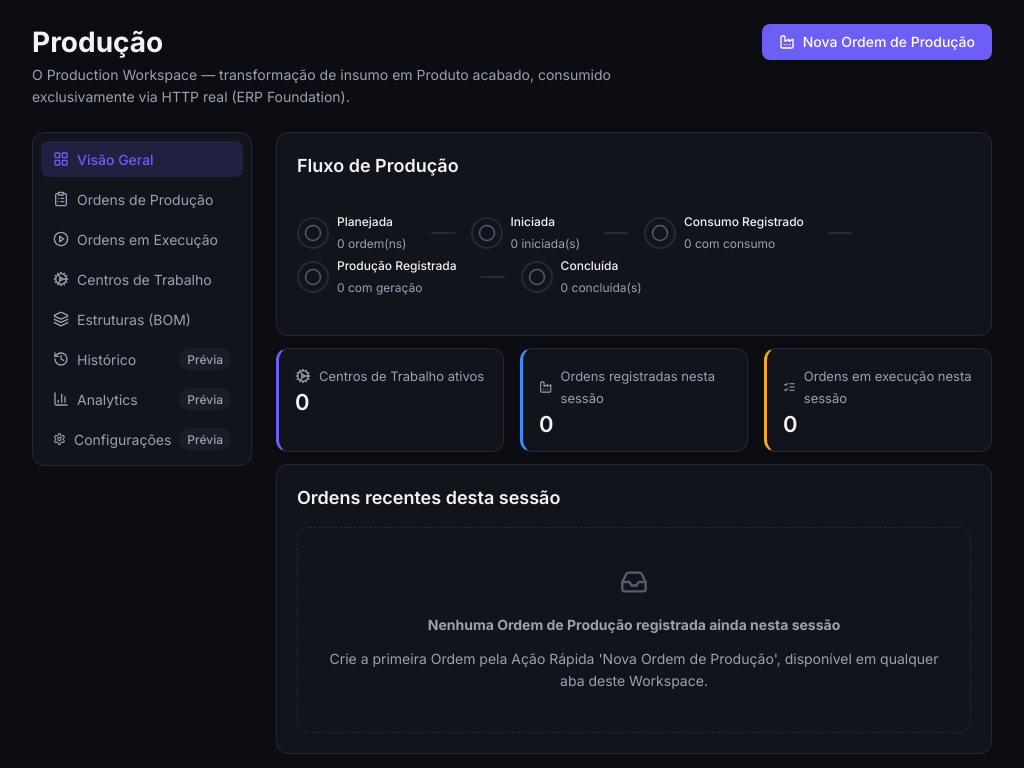
Test: ProductionPage — Production Workspace por seções (IMP-505) › Configurações alterna o tema e mostra o NotConnectedNotice honesto
The width and height of the screenshot is (1024, 768).
Check: the button "Visão Geral" is shown, box [41,141,243,177]
What coordinates should you click on to do the following:
click the button "Configurações Prévia"
I would click on:
 (142, 439)
Its box is [41,421,243,457].
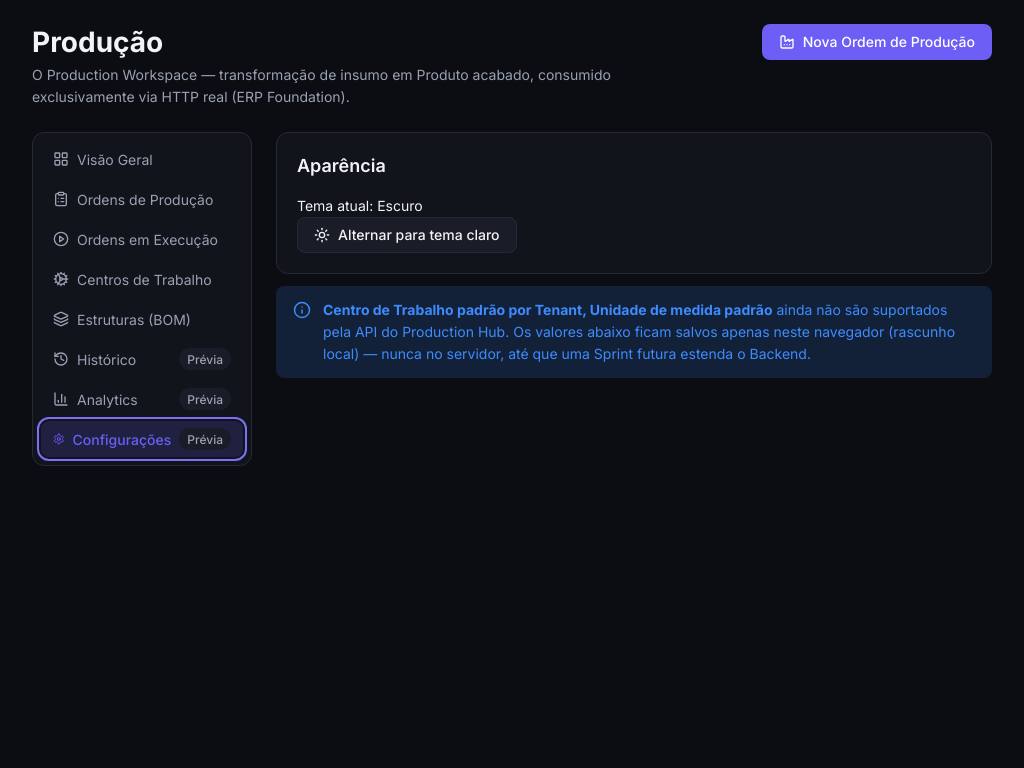
Check: the text "Tema atual: Escuro" is shown, box [297,197,423,214]
Check: the text "Centro de Trabalho padrão por Tenant" is shown, box [323,301,772,318]
